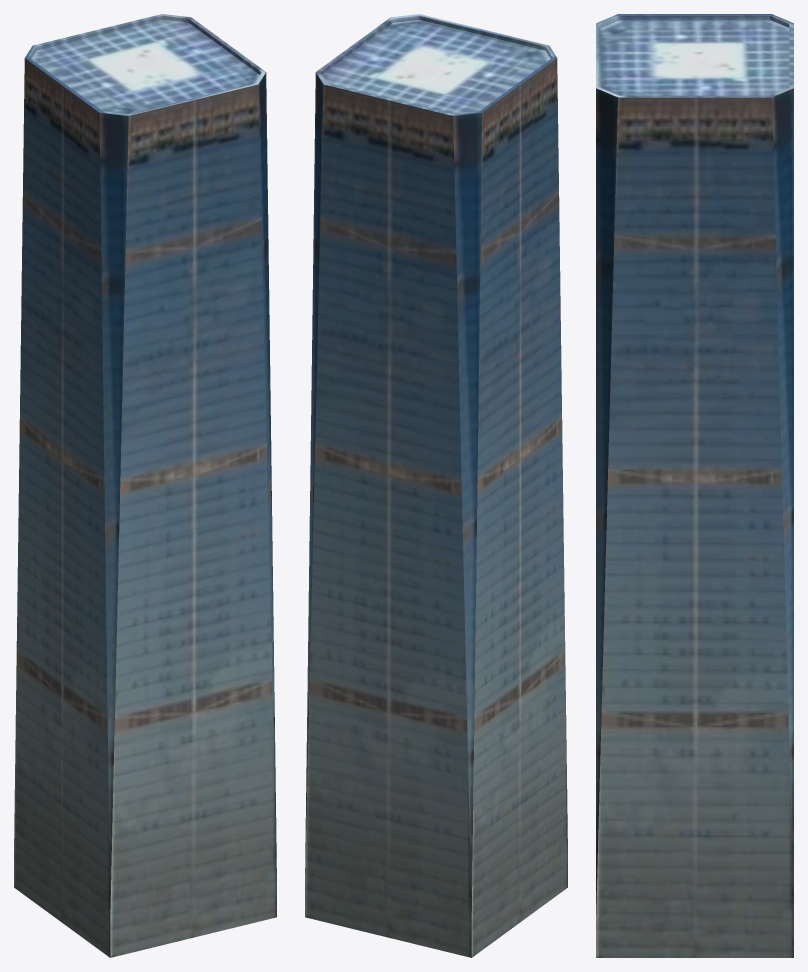
Rendered from international_chamber_of_commerce_tower_64beb6b2.glb.
3 views of the same model, side by side, from view 1: azimuth 30°, elevation 25°; view 2: azimuth 150°, elevation 25°; view 3: azimuth 270°, elevation 25° (orthographic). The views are drawn at different scales.
Parts seen in each view (by area): view 1: international_chamber_of_commerce_tower_64beb6b2; view 2: international_chamber_of_commerce_tower_64beb6b2; view 3: international_chamber_of_commerce_tower_64beb6b2.
Boxes of the visible parts, x1,y1,x2,y2 form: international_chamber_of_commerce_tower_64beb6b2: [14, 14, 276, 957]; international_chamber_of_commerce_tower_64beb6b2: [305, 14, 567, 957]; international_chamber_of_commerce_tower_64beb6b2: [596, 14, 793, 957].
Size of the model in its own units: 45 by 216 by 45.
Materials: 1 (1 with a texture image).
